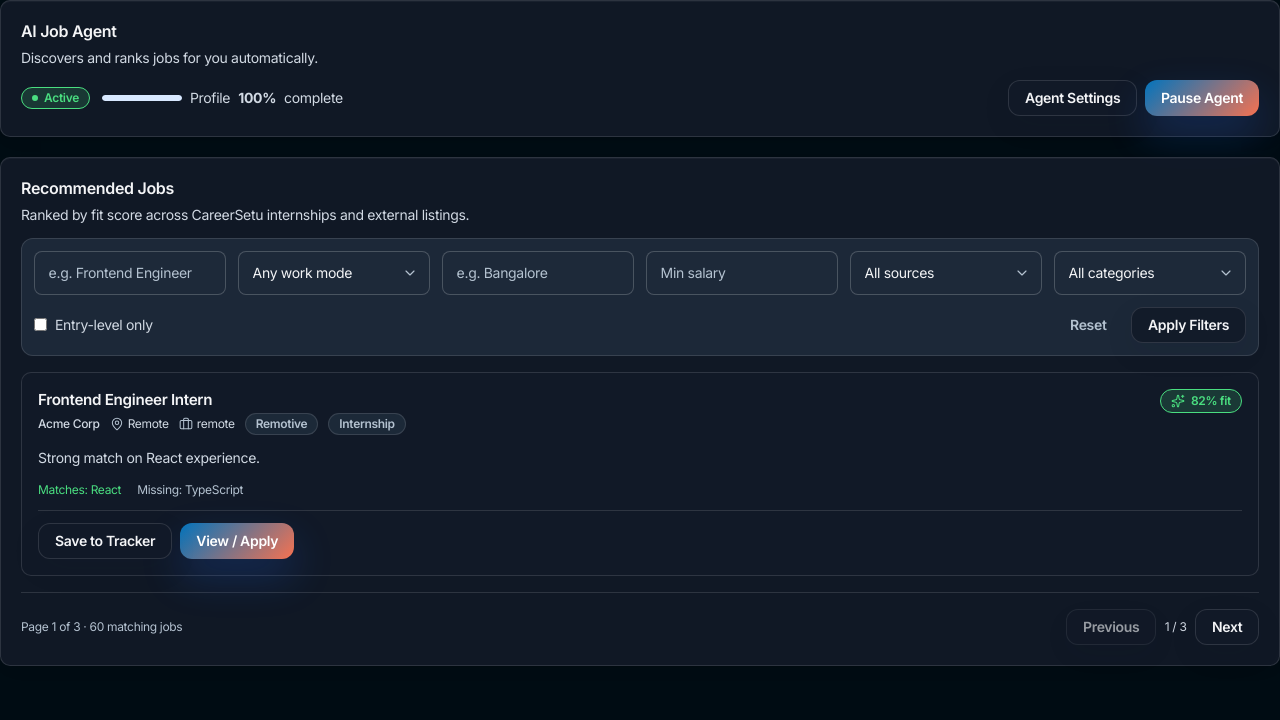
Test case: JobAgentDashboardPage › pagination › clicking Next fetches page 2 while keeping the active role/location filters
Check: the text "Page 1 of 3" is shown, box [21, 619, 182, 635]
Step 1. Type "Engineer" into the field with placeholder "e.g. Frontend Engineer" → (130, 273), box [34, 251, 226, 295]
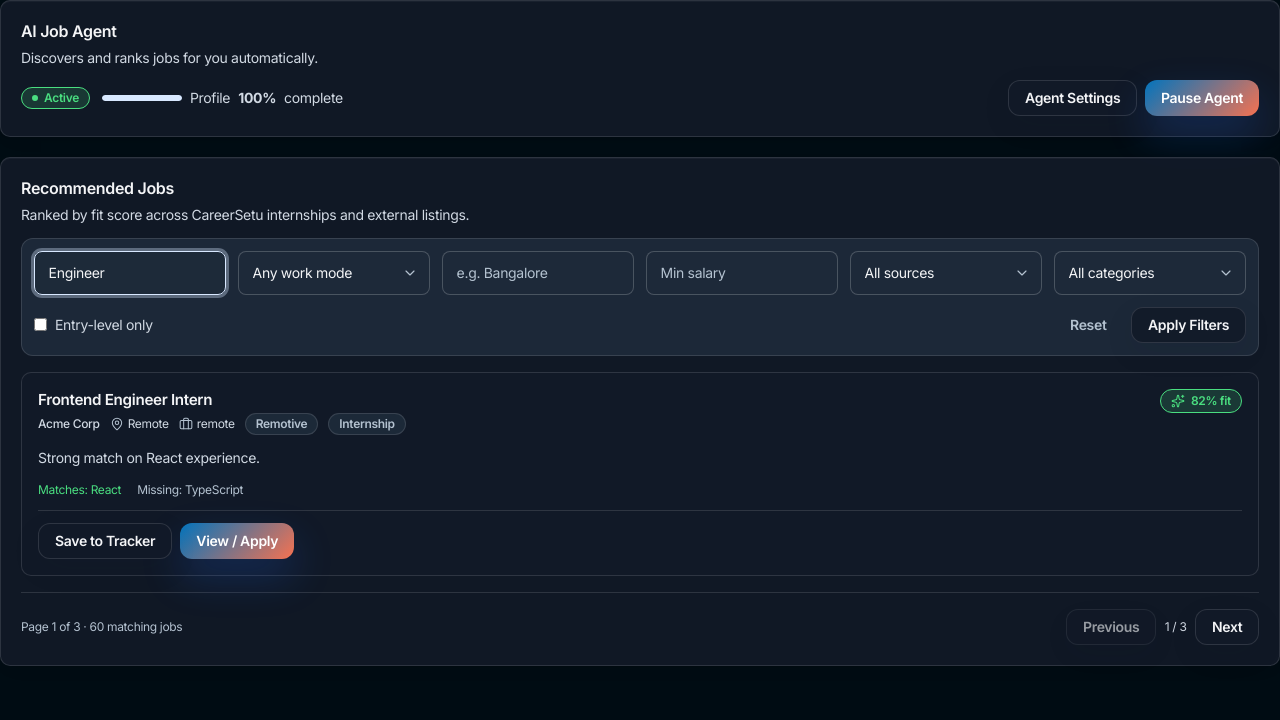
Step 2. Click the button with aria-label "Next page" → (1227, 627), box [1194, 609, 1259, 645]
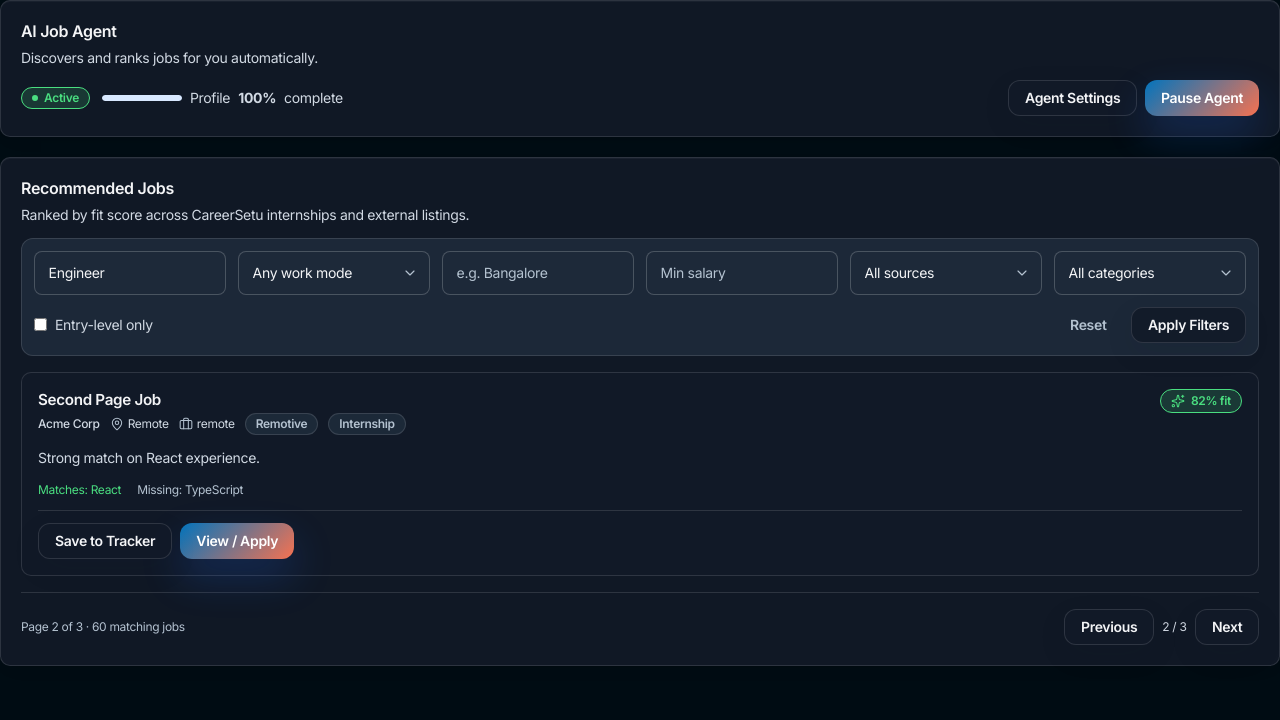
Check: the text "Second Page Job" is shown, box [38, 390, 161, 409]
Check: the text "Page 2 of 3" is shown, box [21, 619, 185, 635]
Check: the button with aria-label "Previous page" is enabled, box [1064, 609, 1154, 645]
